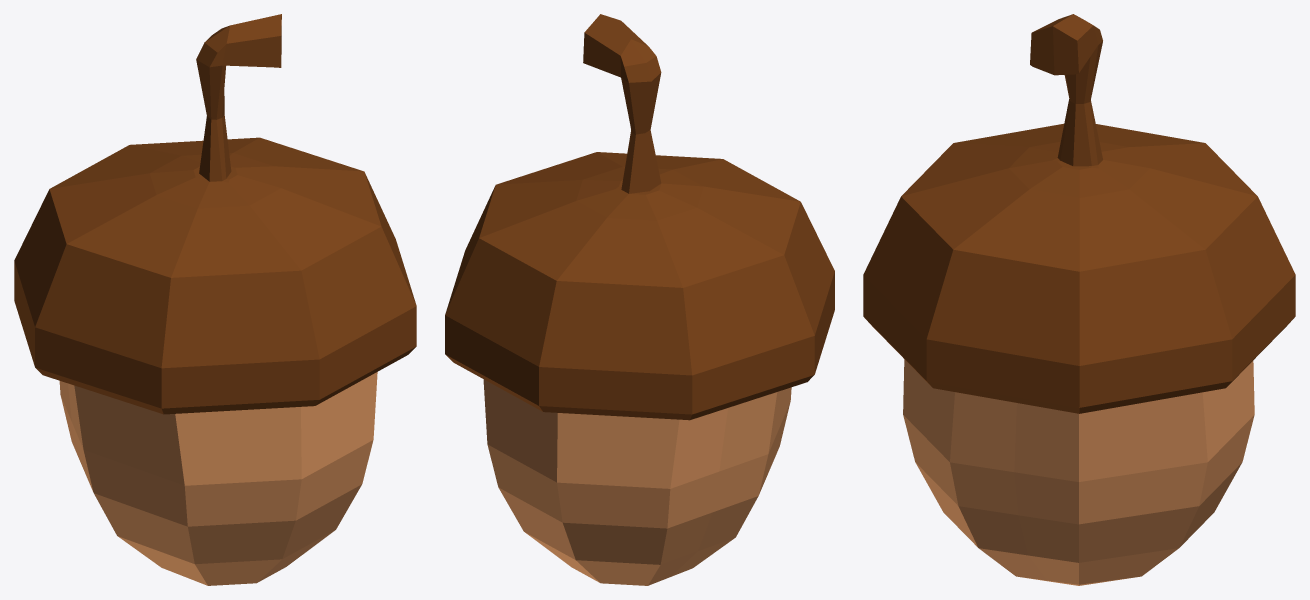
File: Acron.fbx
3 views of the same model, side by side, from view 1: azimuth 30°, elevation 25°; view 2: azimuth 150°, elevation 25°; view 3: azimuth 270°, elevation 25° (orthographic). The views are drawn at different scales.
Visible parts, largest first — view 1: Acorn; view 2: Acorn; view 3: Acorn.
Part boxes in pixels (x1=…): Acorn: x1=14, y1=14, x2=416, y2=585; Acorn: x1=445, y1=14, x2=834, y2=585; Acorn: x1=863, y1=14, x2=1295, y2=585.
Bounding box in the file's own units: 235 × 352 × 235.
